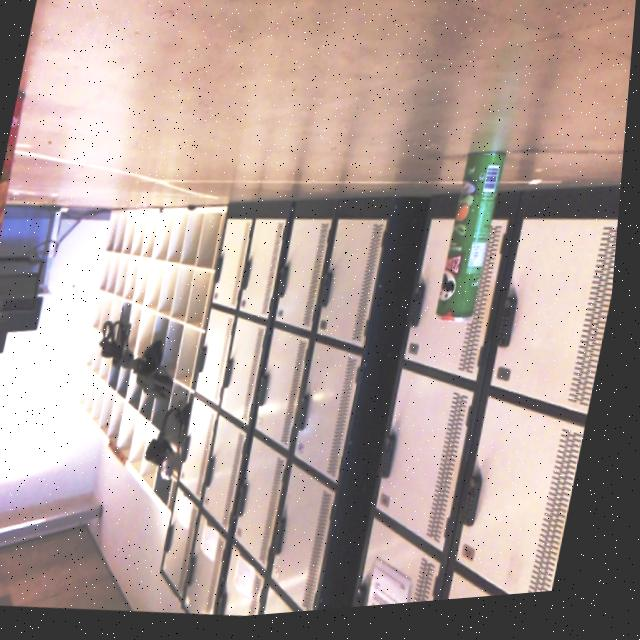greenpringles: (428, 144, 524, 350)
redpringles: (0, 68, 55, 410)
